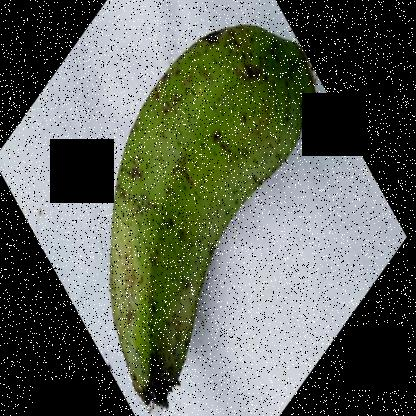unripe: (98, 1, 358, 415)
